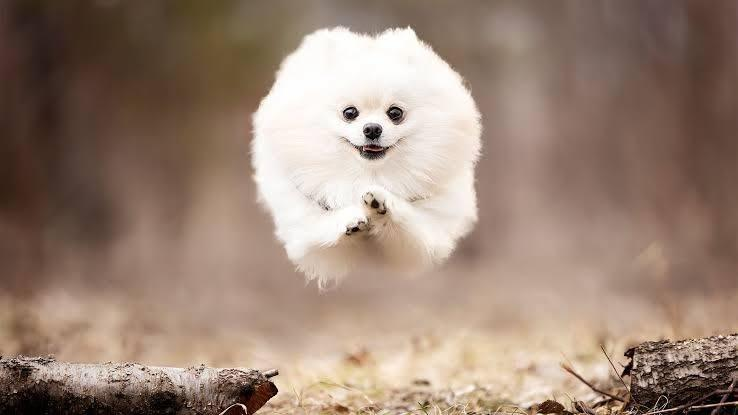puppy-dog: (250, 24, 482, 292)
